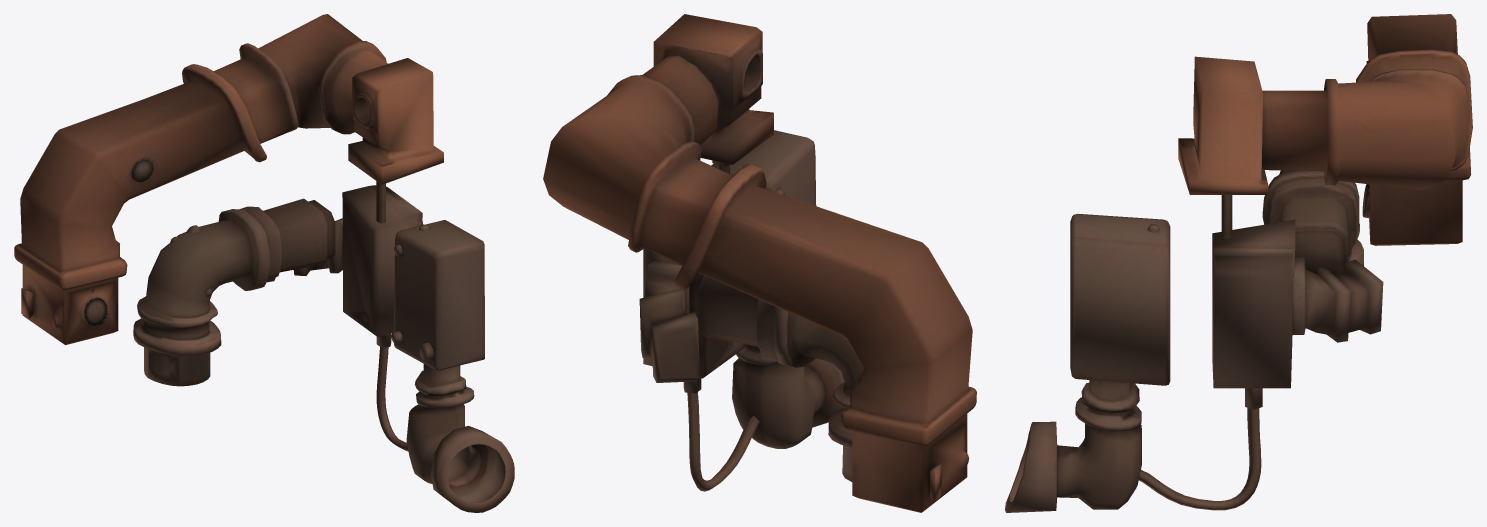
Rendered from Hub_VentPipes.glb.
3 renders of one model, left to right at view 1: azimuth 30°, elevation 25°; view 2: azimuth 150°, elevation 25°; view 3: azimuth 270°, elevation 25°, orthographic. The views are drawn at different scales.
Parts seen in each view (by area): view 1: tripo_node_a32bc85a-b5b1-44c0-bb9a-d54e8044435e; view 2: tripo_node_a32bc85a-b5b1-44c0-bb9a-d54e8044435e; view 3: tripo_node_a32bc85a-b5b1-44c0-bb9a-d54e8044435e.
Boxes of the visible parts, x1,y1,x2,y2 form: tripo_node_a32bc85a-b5b1-44c0-bb9a-d54e8044435e: [14, 14, 514, 512]; tripo_node_a32bc85a-b5b1-44c0-bb9a-d54e8044435e: [543, 14, 976, 512]; tripo_node_a32bc85a-b5b1-44c0-bb9a-d54e8044435e: [1005, 14, 1472, 512].
Size of the model in its own units: 0.8974 by 1 by 0.9648.
Materials: 1 (1 with a texture image).
